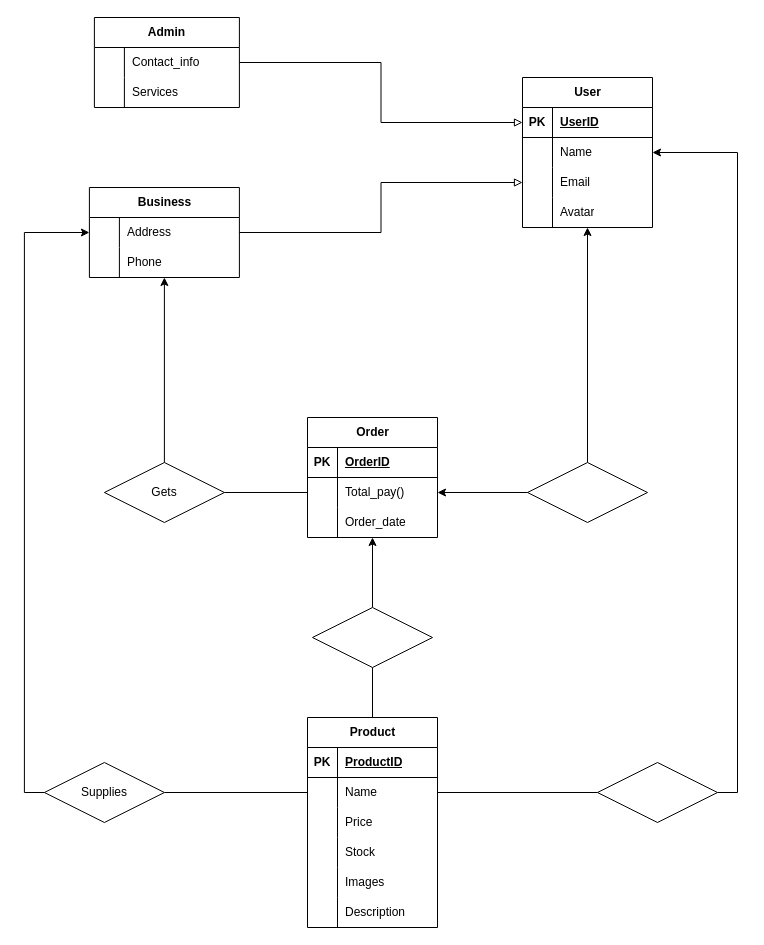
Image size: 764x945. Some labels were removed from this diagram. The centre of each missing label's shape, as x and y in pixels:
has: point 372,637
Places: point 587,492
Receives: point 657,792
